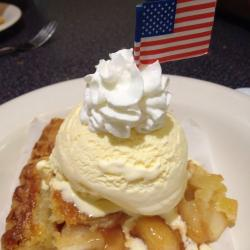apple_pie: (7, 120, 241, 250)
chantilly: (71, 46, 184, 140)
icecream: (56, 109, 194, 220)
